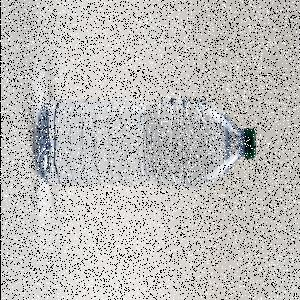Plastic-bottle: (35, 98, 257, 192)
